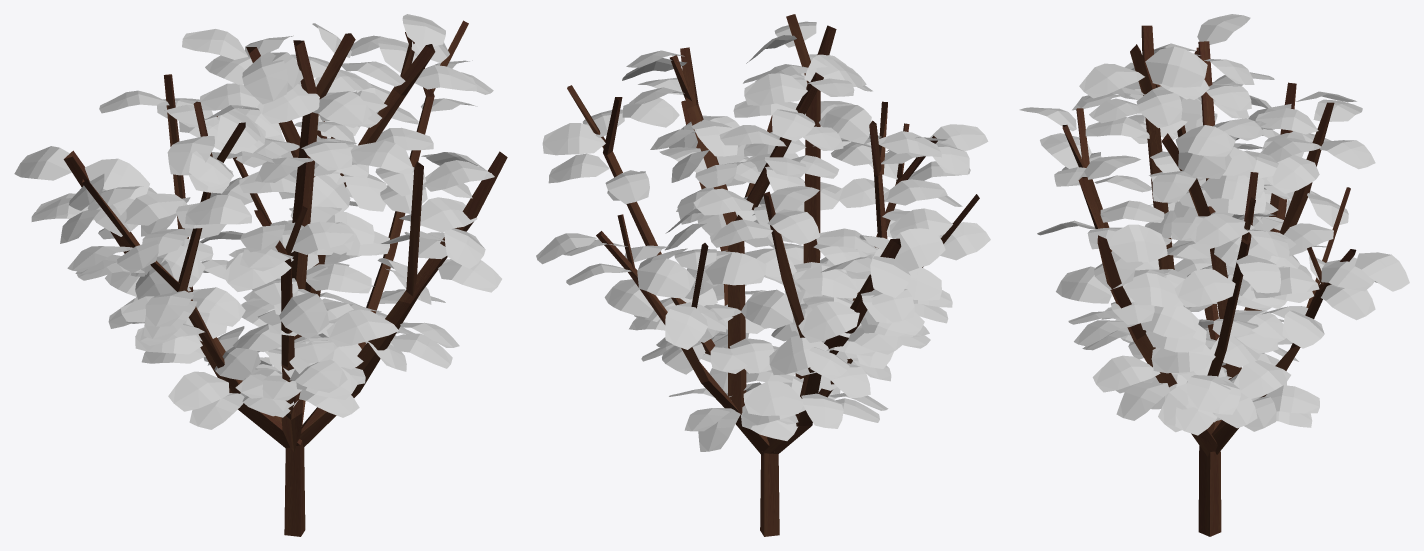
Rendered from Tree_LeafV2.fbx.
3 renders of one model, left to right at view 1: azimuth 30°, elevation 25°; view 2: azimuth 150°, elevation 25°; view 3: azimuth 270°, elevation 25°, orthographic. The views are drawn at different scales.
Parts seen in each view (by area): view 1: leaf.001, BigTreeNokrei.001; view 2: leaf.001, BigTreeNokrei.001; view 3: leaf.001, BigTreeNokrei.001.
Boxes of the visible parts, x1=… form: leaf.001: x1=14, y1=14, x2=501, y2=429; BigTreeNokrei.001: x1=63, y1=20, x2=507, y2=536; leaf.001: x1=536, y1=21, x2=990, y2=451; BigTreeNokrei.001: x1=567, y1=14, x2=979, y2=536; leaf.001: x1=1019, y1=14, x2=1409, y2=435; BigTreeNokrei.001: x1=1062, y1=25, x2=1356, y2=536.
Bounding box in the file's own units: 1235 × 1443 × 1036.
